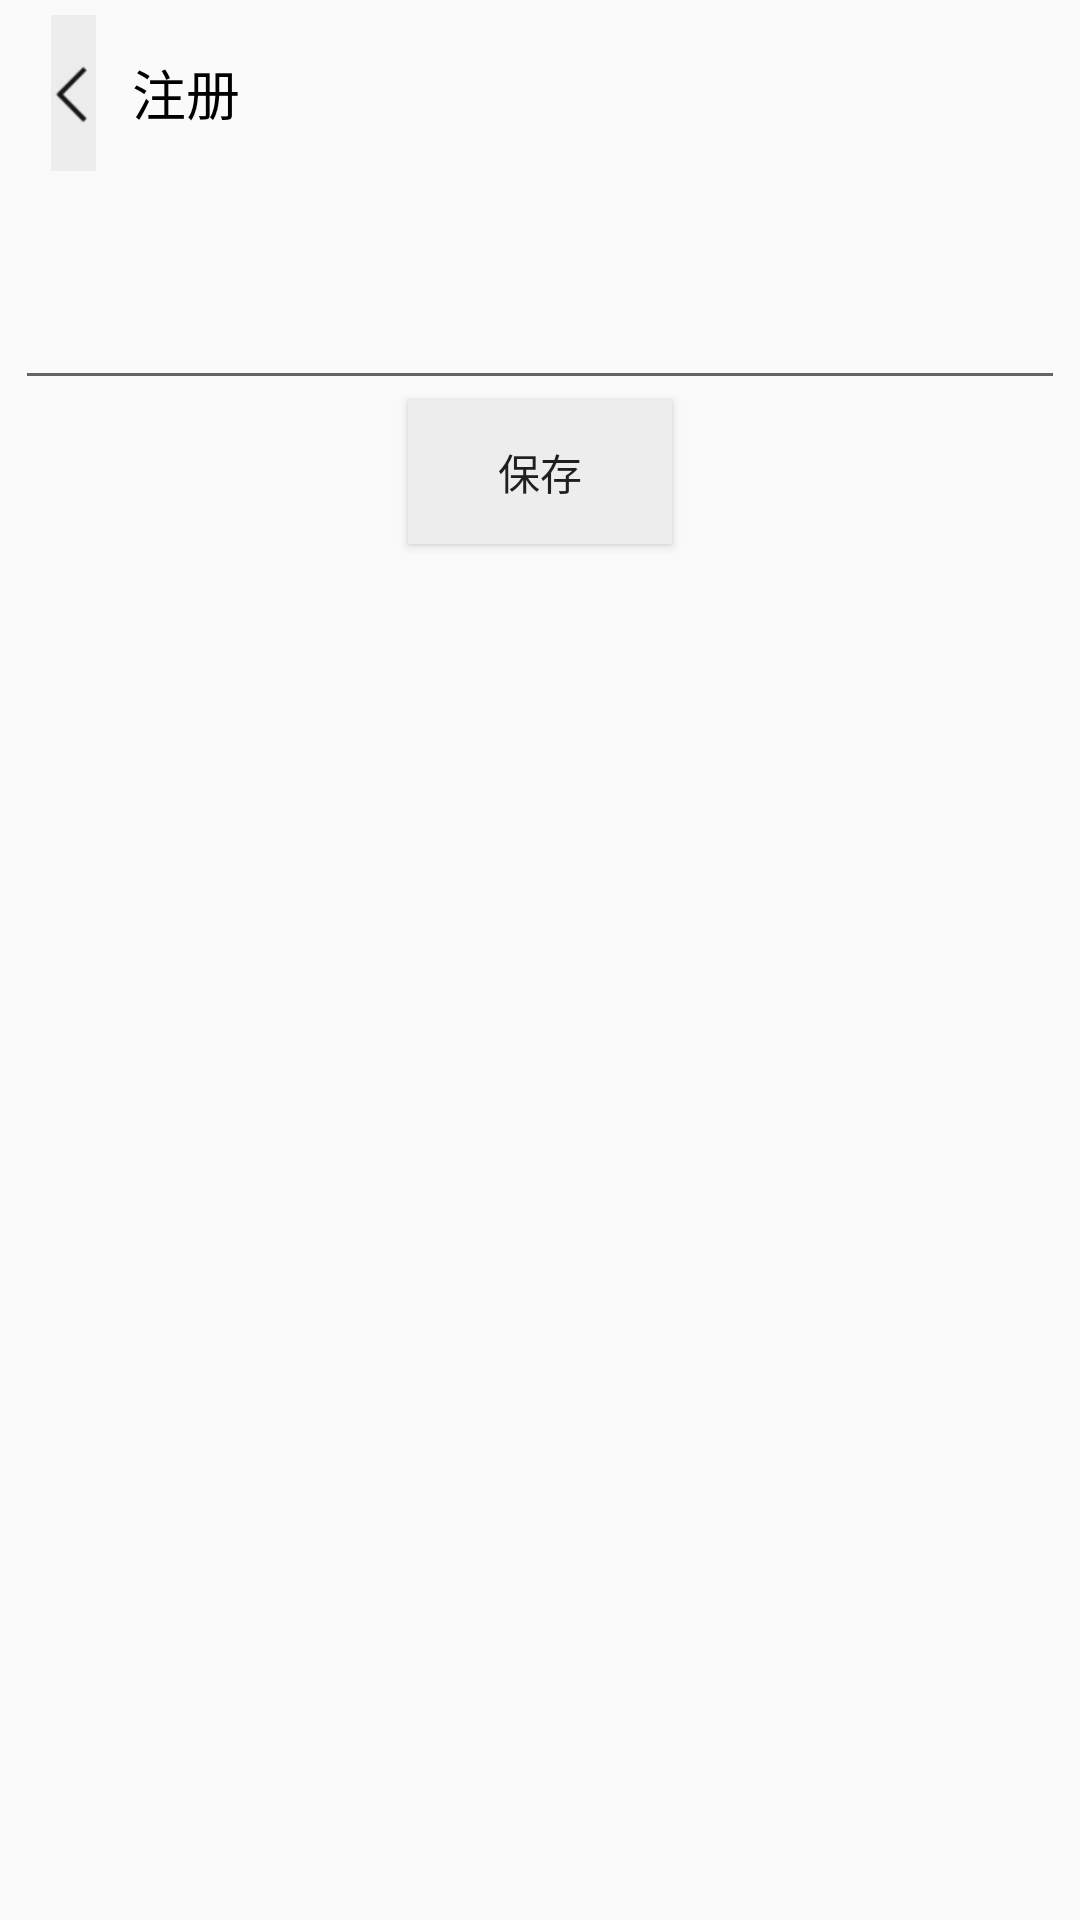

Where icons sit on this 1080 x 1920 app screen, as (left=x1, top=y1, right=x2, bottom=y2):
backbutton: (left=51, top=15, right=96, bottom=171)
